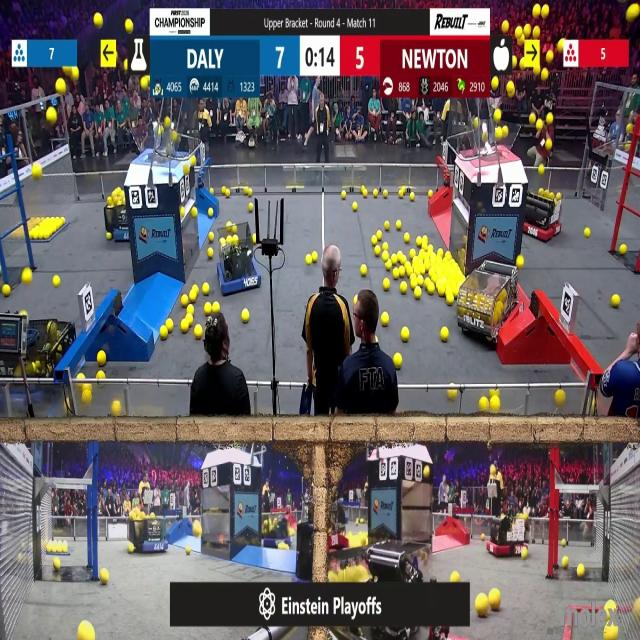ball_airborne: (45, 108, 56, 124), (628, 4, 637, 22), (57, 78, 67, 94), (33, 163, 42, 180), (95, 12, 104, 27), (31, 162, 39, 178), (540, 4, 548, 18), (507, 80, 514, 96), (422, 466, 430, 480), (532, 60, 540, 74), (532, 4, 540, 17), (126, 21, 134, 34), (71, 67, 79, 80), (141, 75, 149, 88), (494, 108, 501, 122), (524, 26, 532, 37), (495, 128, 502, 140), (540, 68, 547, 80), (492, 77, 499, 89), (517, 28, 524, 40), (532, 28, 540, 38), (546, 52, 552, 65), (165, 115, 172, 126), (546, 112, 552, 124), (545, 139, 551, 151), (501, 127, 507, 139), (501, 22, 507, 34), (519, 59, 525, 71), (538, 165, 544, 176), (558, 40, 564, 51), (533, 57, 539, 68), (528, 147, 535, 156), (172, 132, 178, 142), (536, 119, 542, 129), (530, 113, 536, 123), (183, 165, 189, 175), (625, 142, 631, 152), (513, 58, 518, 69), (536, 7, 542, 16), (549, 116, 554, 126), (189, 158, 195, 166), (159, 128, 165, 135), (473, 117, 477, 127), (628, 123, 633, 131), (180, 208, 184, 217), (628, 125, 632, 133), (500, 40, 504, 46)
ball_ground: (490, 590, 500, 611), (490, 396, 500, 412), (100, 568, 110, 584), (23, 269, 32, 285), (480, 396, 490, 410), (112, 402, 120, 418), (394, 353, 402, 368), (98, 352, 107, 365), (194, 324, 202, 338), (576, 564, 584, 577), (242, 310, 250, 323), (451, 571, 460, 582), (401, 327, 408, 341), (449, 389, 457, 401), (414, 287, 422, 299), (442, 328, 450, 340), (166, 319, 174, 331), (161, 326, 169, 338), (382, 313, 389, 326), (446, 293, 454, 304), (212, 303, 220, 314), (383, 278, 390, 290), (203, 283, 210, 295), (3, 284, 10, 296), (399, 281, 406, 293), (606, 600, 614, 610), (360, 266, 367, 277), (54, 276, 61, 287), (621, 244, 628, 255), (516, 258, 522, 270), (428, 282, 434, 294), (398, 268, 405, 278), (562, 557, 568, 568), (312, 251, 318, 262), (55, 559, 61, 570), (129, 542, 135, 552), (208, 208, 214, 218), (585, 229, 591, 239), (56, 278, 62, 288), (376, 246, 382, 256), (418, 276, 424, 286), (181, 294, 187, 304), (522, 550, 528, 560), (392, 269, 398, 279), (190, 208, 196, 218), (395, 220, 402, 228), (98, 370, 105, 378), (352, 203, 358, 212), (385, 263, 391, 272), (384, 221, 390, 230), (391, 254, 397, 263), (106, 233, 112, 242), (208, 248, 213, 258), (417, 237, 422, 247), (403, 234, 408, 244), (410, 192, 416, 200), (187, 306, 193, 314), (383, 252, 389, 260), (398, 255, 404, 263), (307, 255, 312, 264), (186, 295, 190, 306), (382, 243, 388, 250), (209, 234, 214, 242), (56, 574, 61, 582), (411, 249, 416, 257), (371, 237, 376, 245), (384, 189, 388, 198), (378, 232, 382, 240), (252, 236, 256, 244), (234, 224, 238, 232), (354, 295, 358, 303), (224, 189, 228, 196), (562, 539, 566, 546), (482, 533, 485, 540), (57, 562, 60, 569)
robot_blue: (7, 318, 72, 407), (219, 221, 261, 295), (136, 514, 172, 554), (262, 516, 294, 552)
robot_red: (458, 290, 501, 346), (526, 187, 564, 244), (486, 514, 528, 557)
